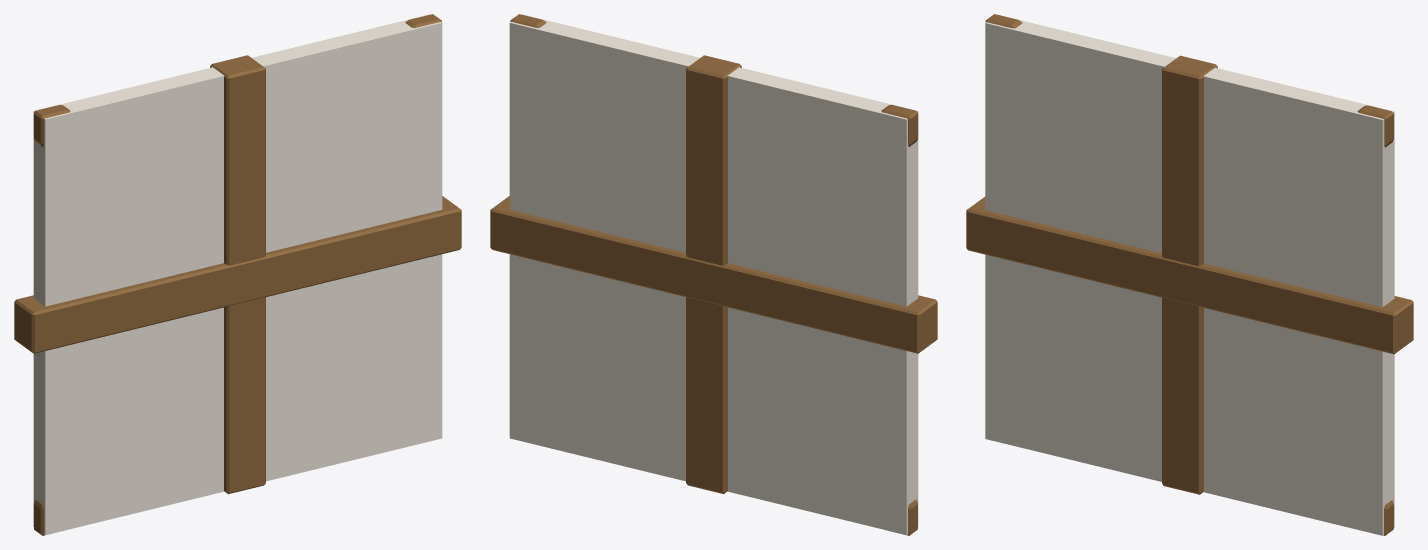
The model's file is WallCrossXH.fbx.
3 renders of one model, left to right at view 1: azimuth 30°, elevation 25°; view 2: azimuth 150°, elevation 25°; view 3: azimuth 330°, elevation 25°, orthographic.
Parts seen in each view (by area): view 1: Cube.059, Cube.069, Cube.065, Cube.064, Cube.068; view 2: Cube.059, Cube.069, Cube.065, Cube.064, Cube.068; view 3: Cube.059, Cube.069, Cube.065, Cube.068, Cube.064.
Part boxes in pixels (x1,y1,x2,y2): Cube.059: (33,14,442,535); Cube.069: (14,196,461,353); Cube.065: (210,55,265,494); Cube.064: (33,14,441,535); Cube.068: (33,105,70,146); Cube.059: (509,14,918,535); Cube.069: (490,196,937,353); Cube.065: (686,55,741,493); Cube.064: (510,14,917,535); Cube.068: (881,105,918,146); Cube.059: (985,14,1394,535); Cube.069: (966,196,1413,354); Cube.065: (1162,55,1217,494); Cube.068: (985,14,1393,535); Cube.064: (1357,105,1393,147).
Bounding box in the file's own units: 216 × 202 × 17.27.
